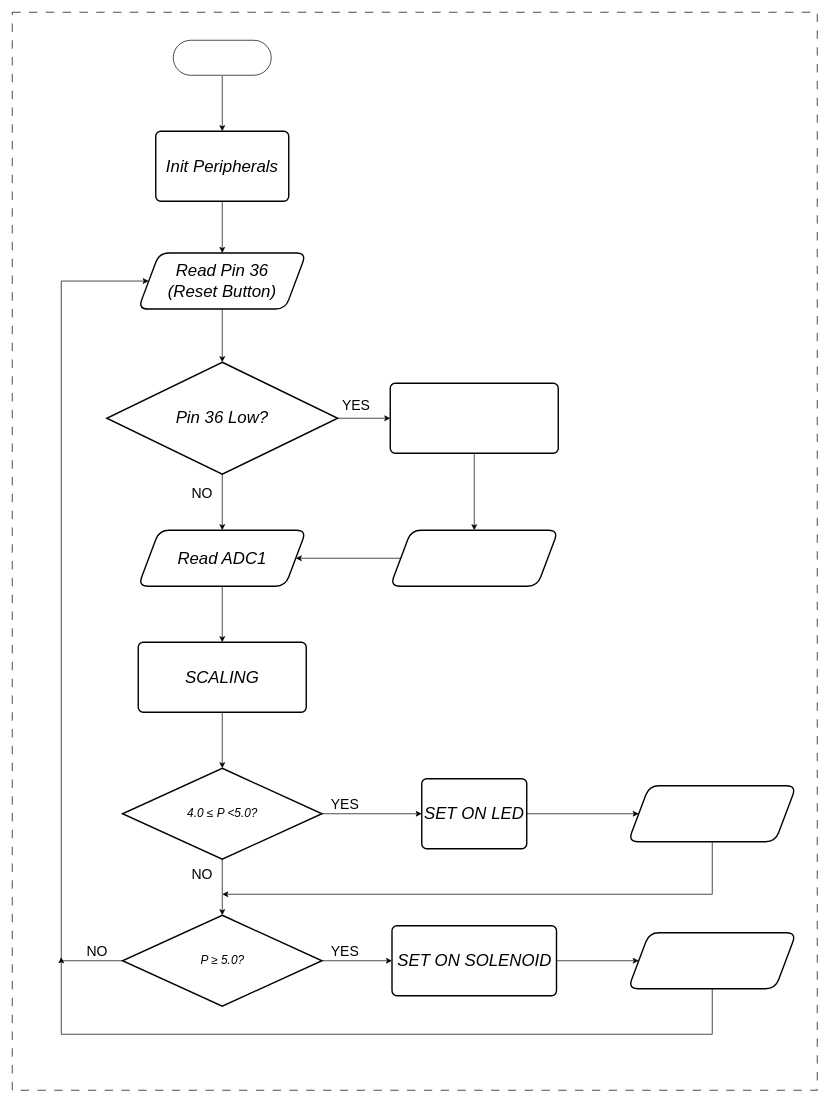
Some shapes in this 830 by 1103 pixel diagram are drawn without their labels. The shapes that lost their labels are listed below. From the top down, each one's box as (x1, y1, x2, y2) in pixels, then its label:
(173, 40, 271, 75): Start
(389, 382, 559, 454): SET OFF LED AND SOLENOID
(389, 529, 559, 587): Pin 37 = LOW Pin 35 = HIGH
(627, 785, 797, 842): Pin 37 = HIGH
(627, 932, 797, 989): Pin 35 = LOW
